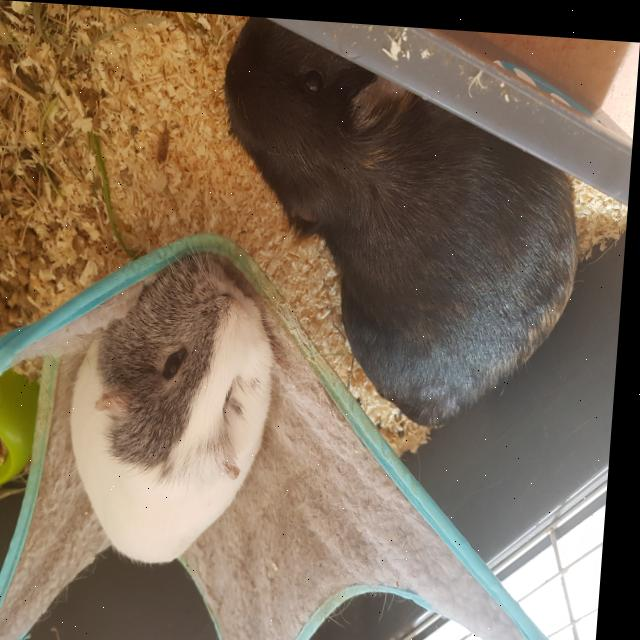guinea pig: (202, 12, 599, 431), (65, 238, 289, 572)
